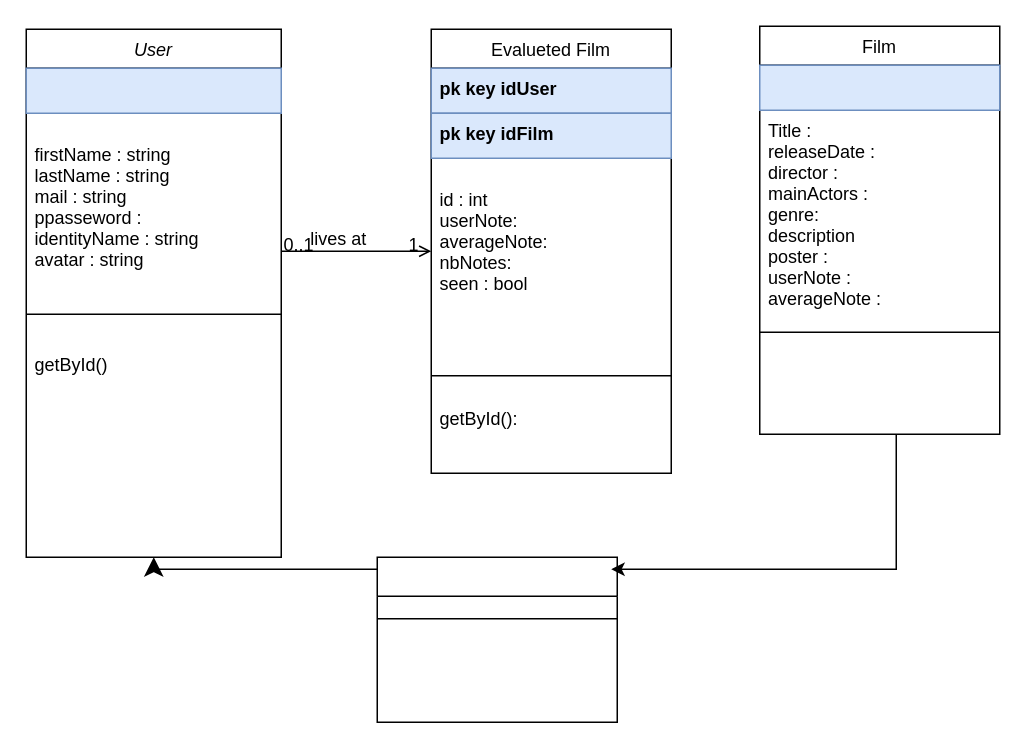
Image size: 1026x749. Some labels were removed from this diagram. The box of each missing label's shape, as (x1, y1, x2, y2) in pixels:
Note: (376, 556, 617, 722)
pk key id: (758, 64, 1000, 110)
pk key id: int: (25, 67, 281, 113)
